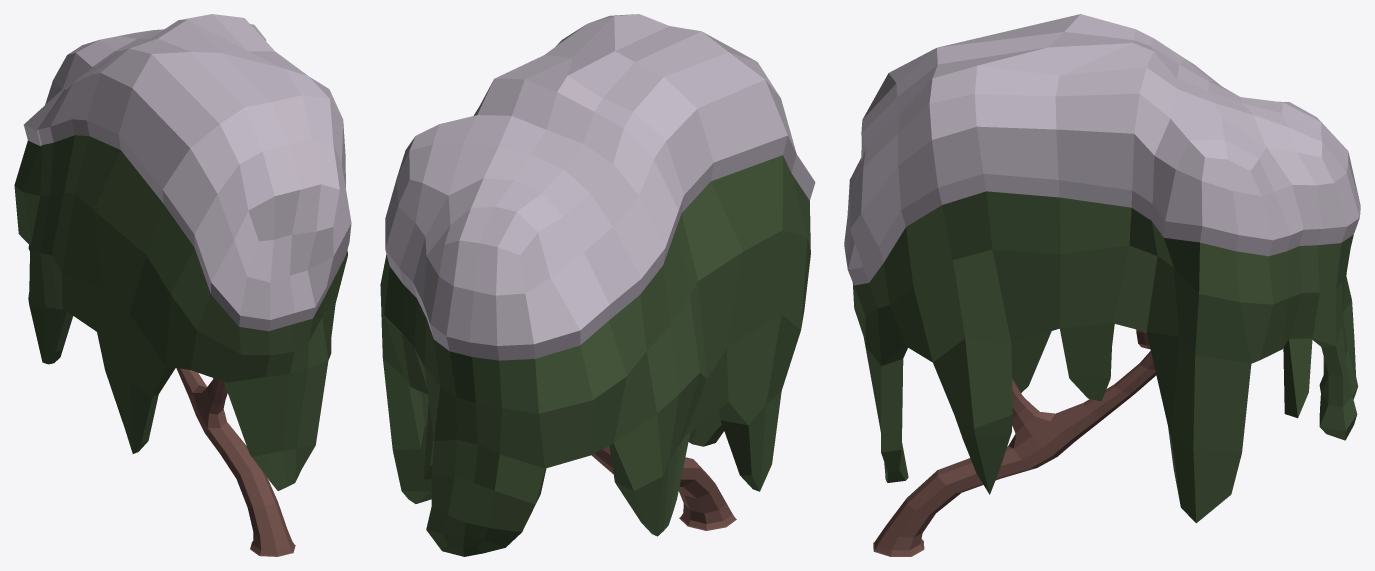
File: willow_snow_2.glb
3 views of the same model, side by side, from view 1: azimuth 30°, elevation 25°; view 2: azimuth 150°, elevation 25°; view 3: azimuth 270°, elevation 25° (orthographic). The views are drawn at different scales.
Visible parts, largest first — view 1: Willow_Snow_2; view 2: Willow_Snow_2; view 3: Willow_Snow_2.
Part boxes in pixels (x1=…): Willow_Snow_2: x1=14, y1=14, x2=351, y2=556; Willow_Snow_2: x1=380, y1=14, x2=815, y2=556; Willow_Snow_2: x1=844, y1=14, x2=1360, y2=556.
Size of the model in its own units: 4.69 by 8.32 by 7.59.
